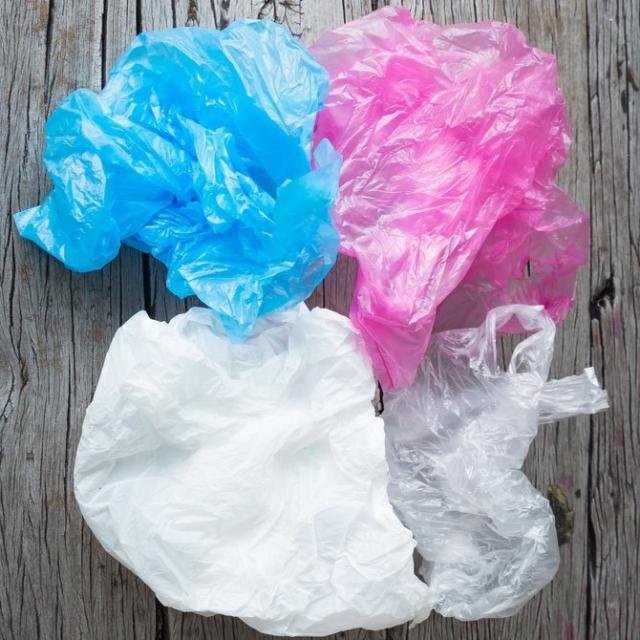Single-layer Plastic: (75, 304, 434, 636), (310, 8, 589, 389), (15, 21, 340, 339), (382, 306, 608, 619)
